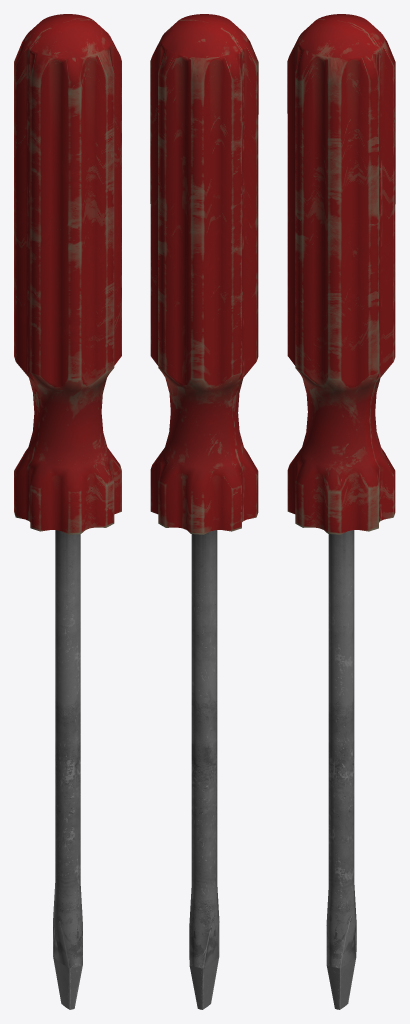
File: screwdriver_2.glb
3 renders of one model, left to right at view 1: azimuth 30°, elevation 25°; view 2: azimuth 150°, elevation 25°; view 3: azimuth 330°, elevation 25°, orthographic.
Parts seen in each view (by area): view 1: e9c7b5be938041b1825307c6f73099c4; view 2: e9c7b5be938041b1825307c6f73099c4; view 3: e9c7b5be938041b1825307c6f73099c4.
Boxes of the visible parts, bbox=[...] form: e9c7b5be938041b1825307c6f73099c4: bbox=[14, 14, 121, 1009]; e9c7b5be938041b1825307c6f73099c4: bbox=[150, 14, 258, 1009]; e9c7b5be938041b1825307c6f73099c4: bbox=[287, 14, 395, 1009].
Size of the model in its own units: 0.0956 by 1 by 0.0956.
Materials: 1 (1 with a texture image).
